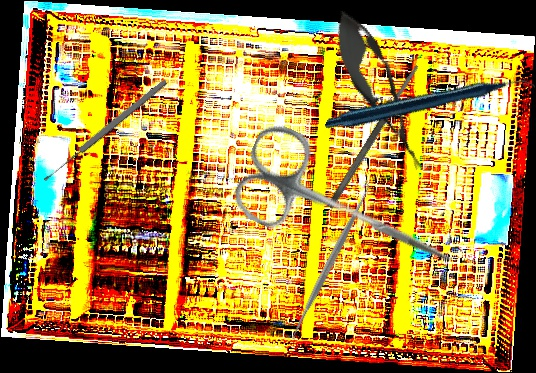Handpiece: (324, 13, 536, 199)
Iris Scissors: (225, 118, 474, 301)
Micro Scissor: (320, 1, 439, 179)
Spatula Surgical: (283, 178, 379, 343), (325, 63, 422, 210)
Surgical Spoon: (41, 77, 169, 184)
